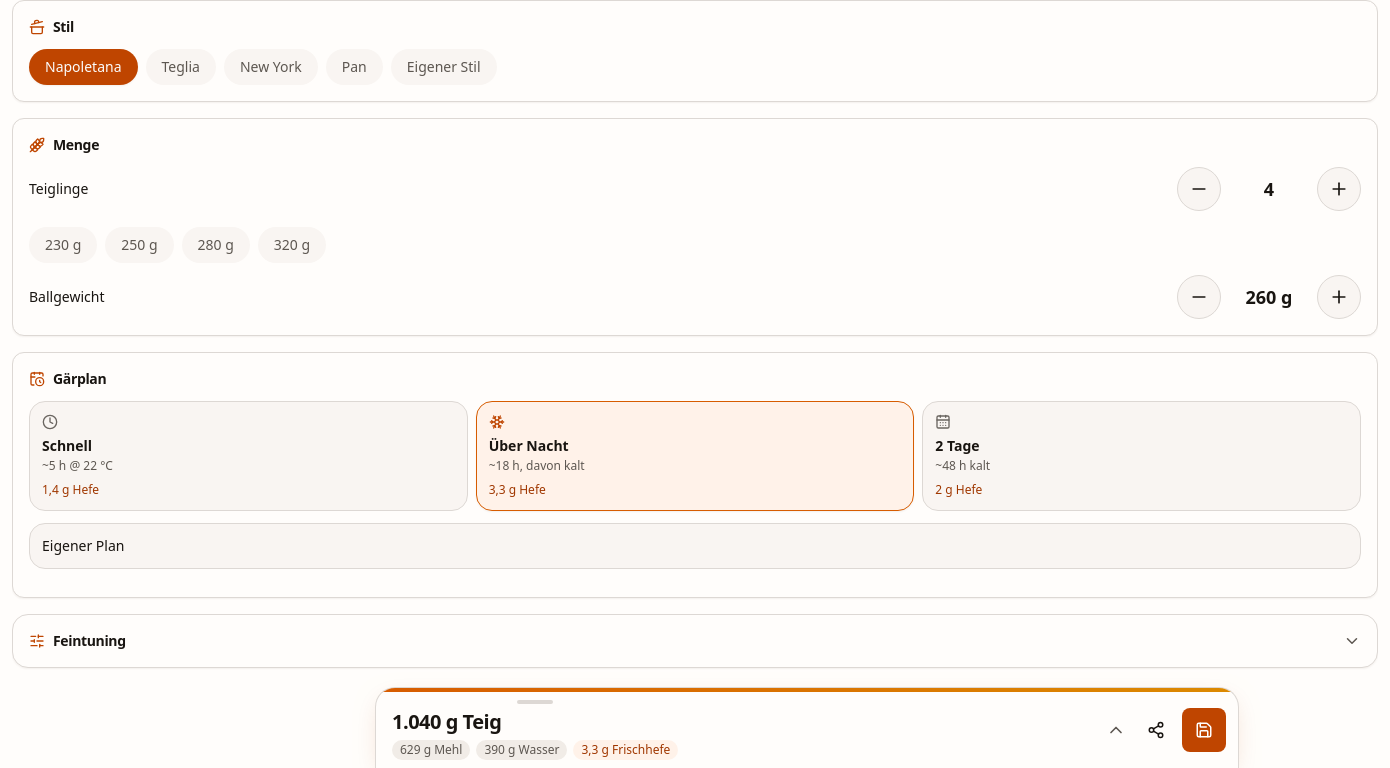
Test case: CalculatorPage › expands the result sheet to reveal the full breakdown
This screenshot has width=1390, height=768.
Click the button with aria-label "Ergebnis aufziehen" at (535, 702), box [376,692,1130,767]
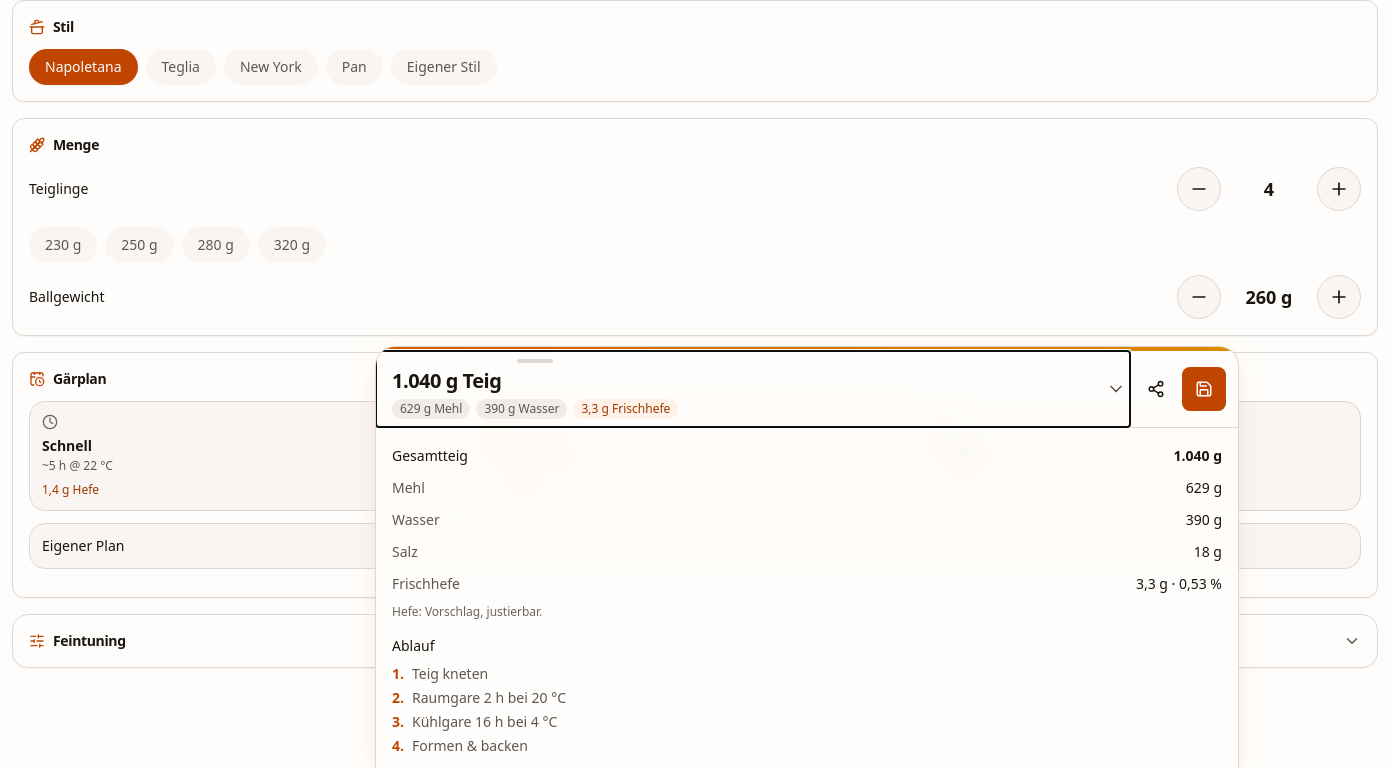
Now the text "Gesamtteig" is shown, box [392,446,468,466]
Now the text "Mehl" is shown, box [392,478,425,498]
Now the heading "Ablauf" is shown, box [392,636,434,655]
